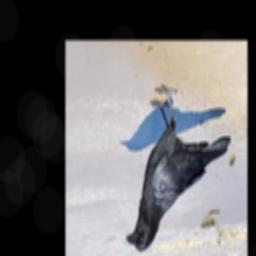Crow: (125, 84, 231, 251)
